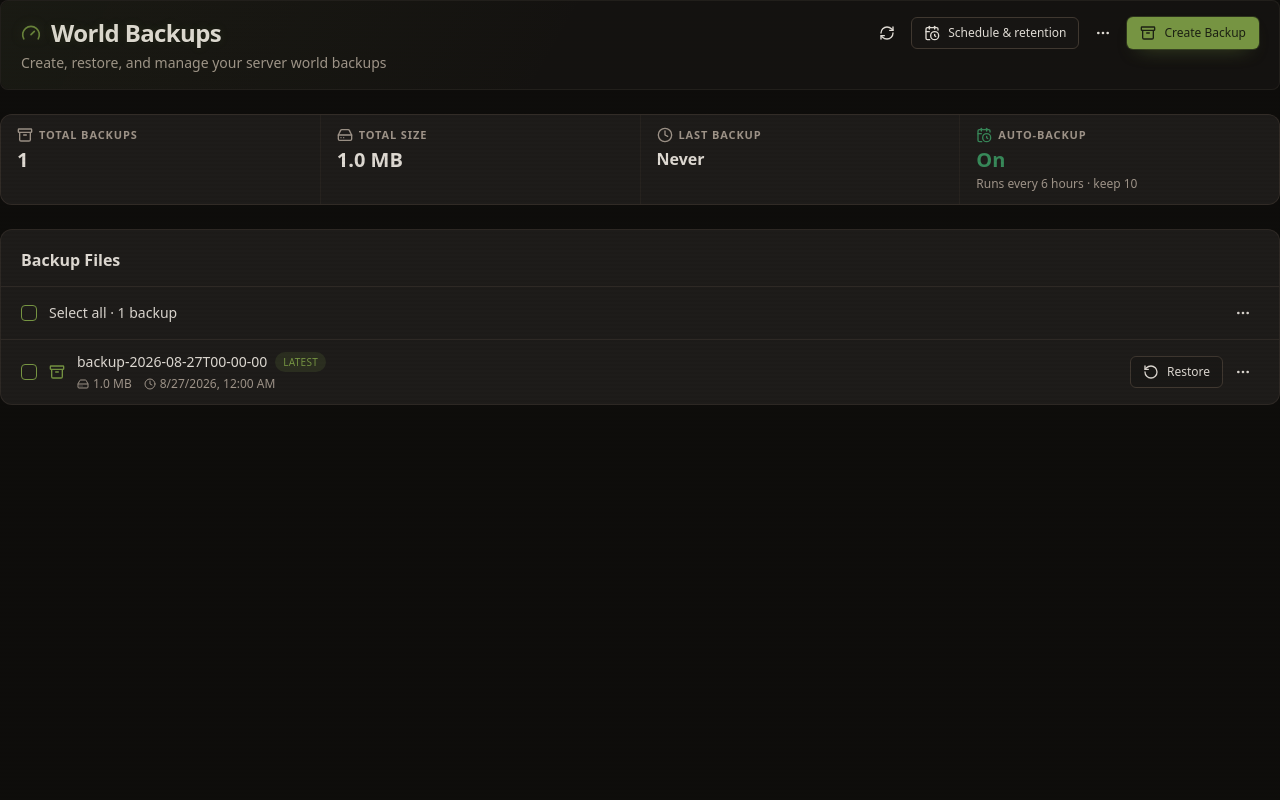
Test: Backups.tsx: activeServerChanged › restore confirmation names the real target server, read fresh when the dialog opens
The width and height of the screenshot is (1280, 800).
Click the button "Restore" at (1176, 372), box 1130,356 -> 1223,388
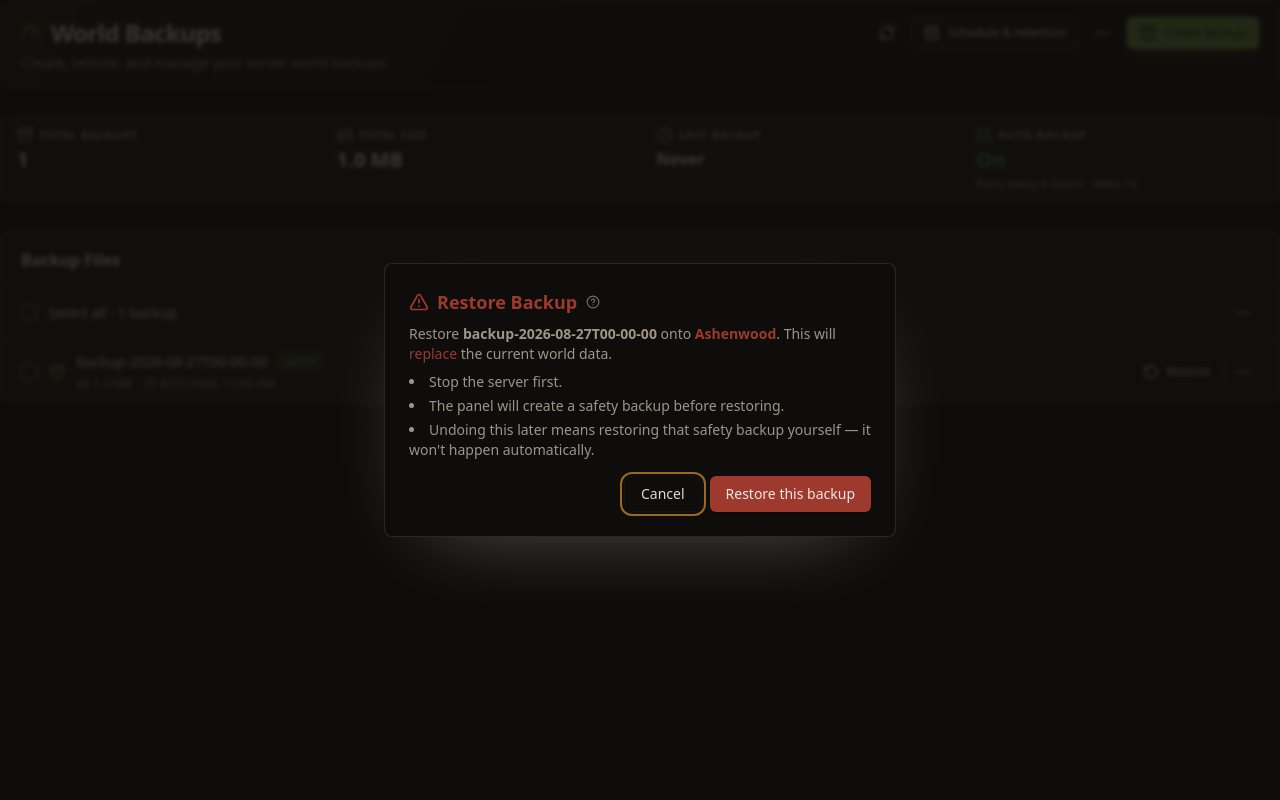
Expected: the text "Ashenwood" is shown, 695,324 -> 776,343
